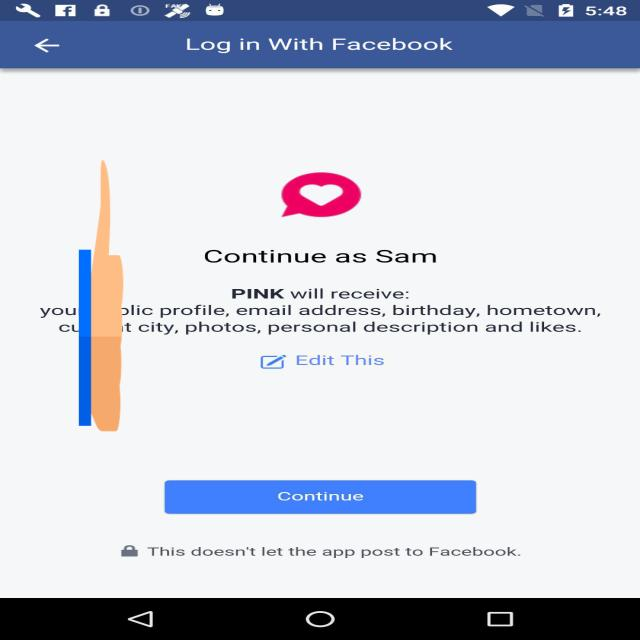privacy zuckering: (79, 153, 123, 438)
